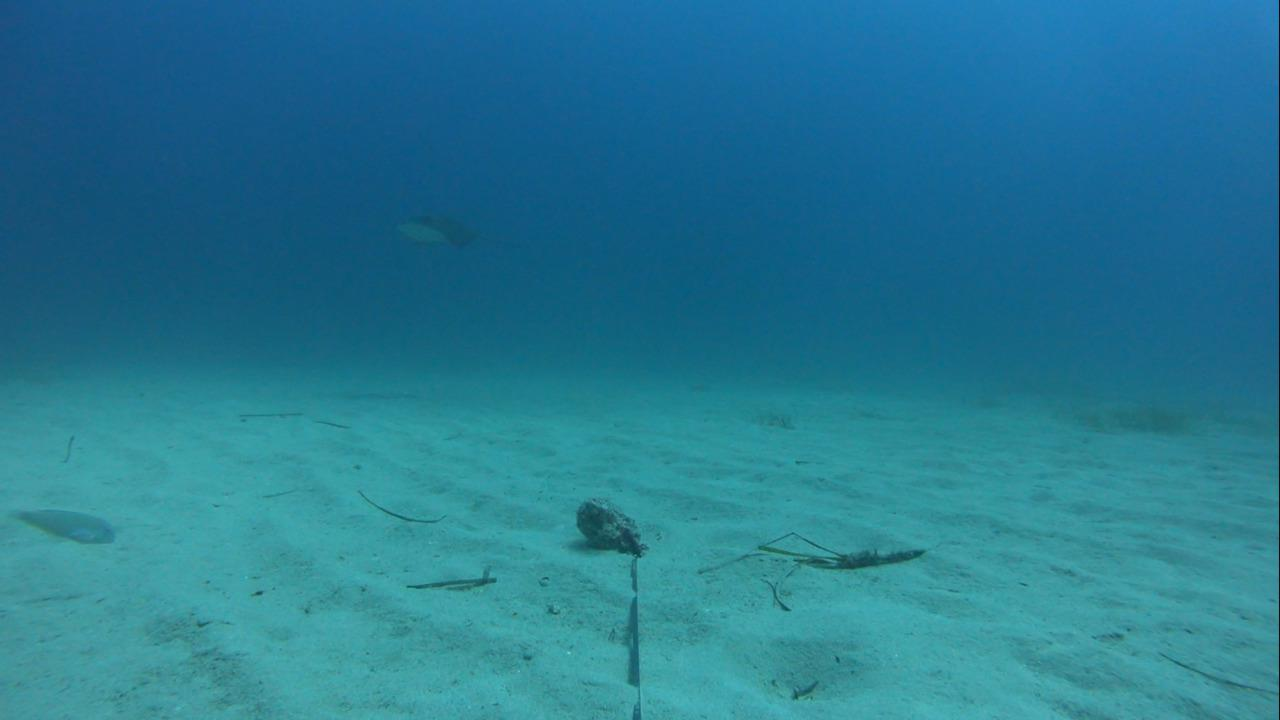myliobatis: (374, 204, 511, 260)
raor: (4, 504, 120, 553)
